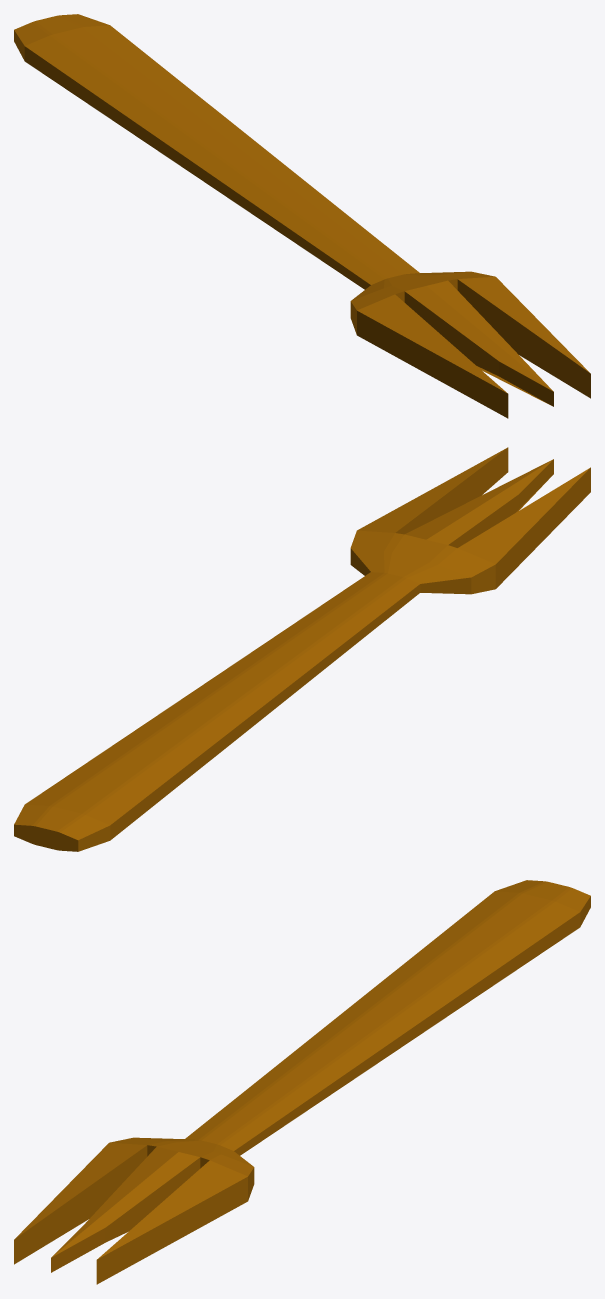
File: Fork_01.fbx
3 views of the same model, one above another, from view 1: azimuth 30°, elevation 25°; view 2: azimuth 150°, elevation 25°; view 3: azimuth 330°, elevation 25° (orthographic).
Visible parts, largest first — view 1: Fork_01; view 2: Fork_01; view 3: Fork_01.
Part boxes in pixels (box(x1,y1,x2,y2)): Fork_01: box(14, 14, 590, 418); Fork_01: box(14, 447, 590, 851); Fork_01: box(14, 880, 590, 1284).
Bounding box in the file's own units: 4.75 × 1.32 × 30.06.
